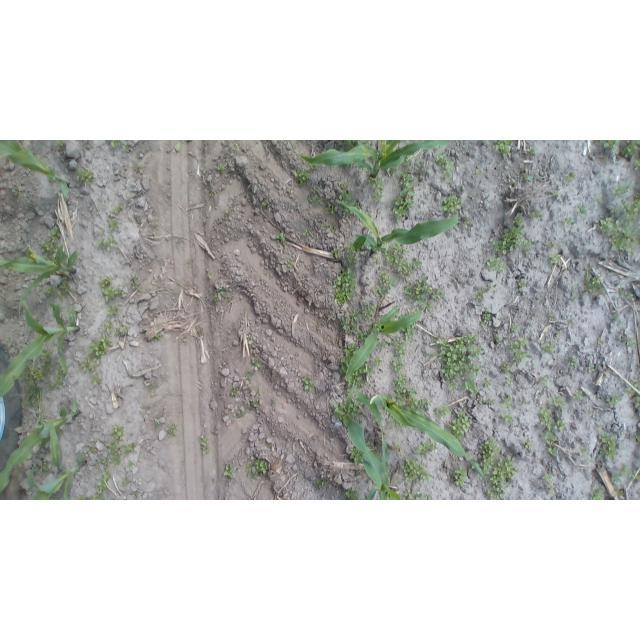Maize: (369, 395, 488, 482), (1, 298, 81, 398), (335, 379, 401, 500), (1, 398, 81, 492), (336, 197, 461, 249), (345, 307, 422, 382), (0, 243, 78, 315), (300, 140, 450, 176), (0, 140, 68, 196), (26, 452, 88, 500)
Weeds: (440, 336, 478, 377), (599, 216, 640, 252), (403, 276, 431, 304), (496, 228, 523, 256), (492, 457, 517, 486), (393, 186, 414, 217), (333, 269, 356, 290), (483, 437, 497, 471), (106, 440, 123, 466), (452, 414, 473, 435), (599, 433, 618, 456), (387, 247, 408, 264), (624, 199, 640, 221), (585, 275, 604, 292), (540, 408, 554, 431), (443, 196, 461, 213), (601, 141, 620, 156), (491, 141, 511, 154), (362, 301, 375, 319), (49, 372, 63, 388), (307, 193, 323, 207), (627, 140, 640, 157), (111, 425, 125, 440), (590, 485, 604, 500), (491, 476, 501, 497), (402, 457, 413, 476), (200, 434, 210, 454), (76, 171, 94, 182), (350, 308, 361, 326), (395, 260, 409, 274), (478, 285, 491, 300), (436, 155, 450, 168), (614, 184, 627, 198), (334, 290, 346, 305), (103, 288, 114, 304), (92, 343, 105, 356), (42, 354, 51, 372), (346, 245, 355, 263), (256, 461, 268, 474), (400, 174, 413, 186), (381, 276, 394, 288), (513, 349, 527, 360), (130, 275, 141, 289), (550, 397, 567, 406), (80, 493, 105, 499), (50, 227, 60, 242), (544, 431, 556, 443), (394, 357, 404, 371), (344, 287, 354, 301), (514, 213, 523, 228), (394, 383, 405, 395), (456, 466, 467, 478), (394, 343, 407, 353), (108, 218, 118, 231), (410, 257, 420, 270), (342, 317, 351, 331), (465, 381, 476, 392), (621, 148, 632, 159), (502, 413, 514, 423), (97, 480, 107, 492), (100, 277, 112, 287), (530, 210, 545, 218), (342, 189, 352, 201), (430, 289, 442, 299), (225, 465, 234, 478), (32, 371, 45, 380), (374, 191, 383, 204), (351, 453, 360, 466), (345, 341, 353, 355), (487, 258, 501, 266), (573, 391, 583, 402), (125, 445, 135, 456), (59, 281, 69, 292), (105, 237, 115, 248), (523, 240, 533, 251), (406, 327, 415, 339), (418, 444, 430, 453), (46, 286, 55, 298), (104, 336, 113, 348), (105, 321, 114, 333), (106, 306, 118, 315), (297, 172, 306, 184), (246, 465, 254, 478), (419, 399, 429, 409), (442, 169, 452, 179), (620, 464, 630, 474), (346, 488, 356, 498), (409, 397, 418, 408), (440, 406, 451, 415), (549, 255, 560, 264), (625, 386, 634, 397), (422, 304, 434, 312), (361, 370, 374, 377), (515, 337, 525, 346), (501, 397, 511, 406), (455, 475, 464, 485), (220, 288, 230, 297), (352, 405, 361, 415), (448, 380, 456, 391), (169, 424, 177, 435), (373, 181, 384, 189), (524, 169, 532, 180), (112, 206, 124, 213), (634, 396, 640, 410), (612, 471, 619, 483), (102, 471, 111, 480), (45, 243, 54, 252), (626, 182, 635, 191), (549, 448, 558, 457), (544, 344, 553, 353), (305, 380, 314, 389), (252, 361, 260, 371), (97, 239, 105, 249), (568, 171, 576, 181), (326, 203, 334, 213), (331, 248, 339, 258), (483, 312, 490, 323), (374, 357, 382, 366), (396, 375, 405, 383), (277, 233, 286, 241), (84, 354, 93, 362), (92, 376, 101, 384), (94, 356, 102, 365), (528, 146, 536, 155), (610, 206, 619, 214), (578, 204, 586, 213), (519, 280, 525, 292), (357, 332, 366, 340), (81, 363, 91, 370), (512, 322, 519, 332), (408, 388, 416, 396), (216, 164, 224, 172), (564, 217, 572, 225), (420, 473, 429, 480), (606, 399, 615, 406), (123, 477, 129, 487), (129, 490, 139, 496), (634, 160, 640, 170), (619, 289, 625, 299), (633, 377, 639, 387), (413, 466, 420, 474), (315, 479, 323, 486), (244, 373, 252, 380), (114, 289, 123, 295), (485, 380, 492, 387), (252, 403, 259, 410), (597, 197, 604, 204), (633, 191, 640, 198), (626, 291, 633, 298), (302, 377, 309, 384), (558, 420, 564, 428), (588, 364, 594, 372), (571, 359, 577, 367), (286, 259, 294, 265), (115, 327, 121, 335), (58, 141, 66, 147), (110, 141, 118, 147), (216, 293, 221, 302), (544, 474, 553, 479), (503, 363, 510, 369), (231, 390, 237, 397), (155, 333, 162, 339), (13, 189, 20, 195), (526, 441, 531, 449), (616, 394, 621, 402), (312, 187, 317, 194), (369, 178, 376, 183), (494, 334, 498, 342), (305, 231, 310, 237), (552, 241, 557, 246), (374, 259, 379, 264), (636, 435, 640, 441), (464, 217, 468, 223), (599, 340, 604, 344), (380, 291, 383, 296)
